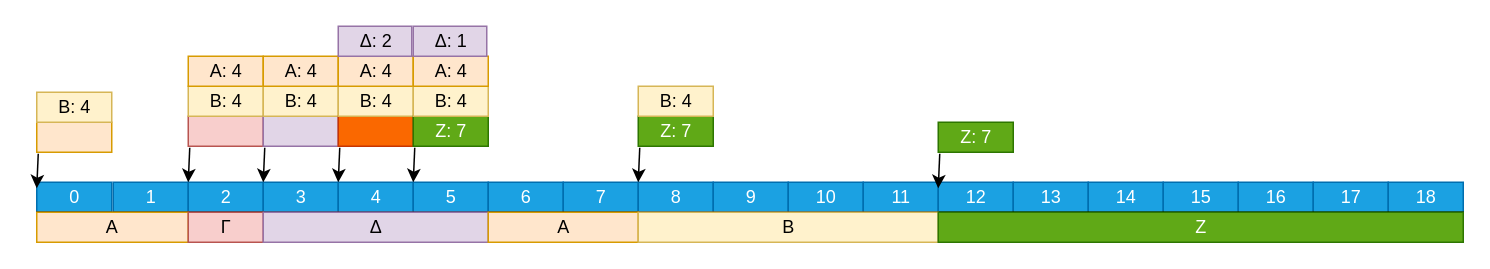
Some shapes in this 1490 by 269 pixel diagram are drawn without their labels. The box of each missing label's shape, as (x1, y1, x2, y2) in pixels:
A: 6: (35, 121, 112, 152)
Γ: 1: (187, 115, 263, 146)
Δ: 3: (262, 115, 338, 146)
Ε: 5: (337, 115, 413, 146)
